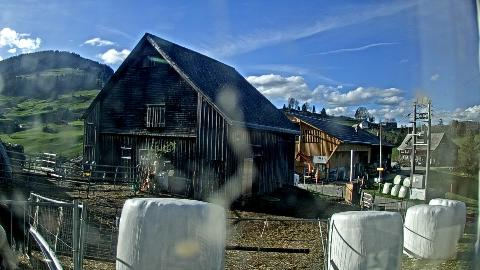car: (390, 165, 400, 173), (418, 162, 426, 166)
sheep: (0, 204, 26, 254), (0, 224, 16, 270), (0, 204, 12, 254), (147, 161, 159, 193)
